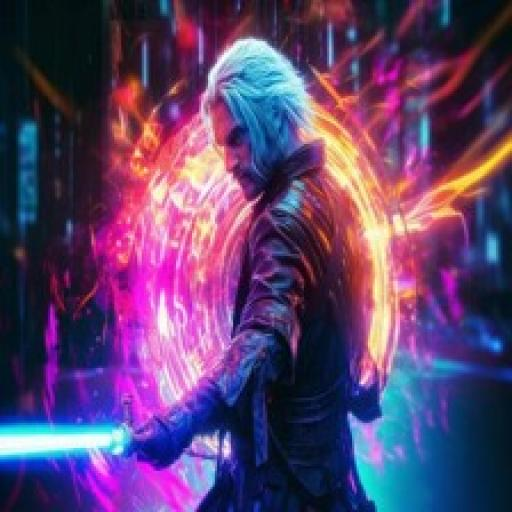lightsaber: (0, 416, 169, 469)
